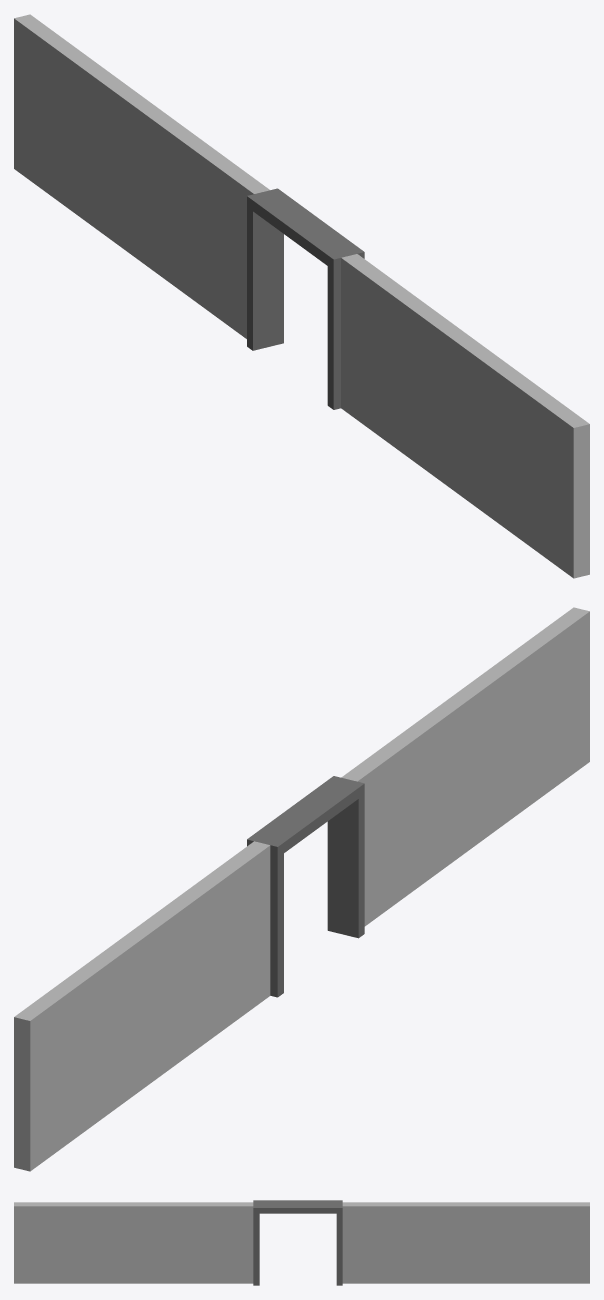
Rendered from TUONGRONG_BEBOI.fbx.
3 renders of one model, top to bottom at view 1: azimuth 30°, elevation 25°; view 2: azimuth 150°, elevation 25°; view 3: azimuth 270°, elevation 25°, orthographic. The views are drawn at different scales.
Visible parts, largest first — view 1: TUONGRONG_BEBOI; view 2: TUONGRONG_BEBOI; view 3: TUONGRONG_BEBOI.
Boxes of the visible parts, x1,y1,x2,y2 form: TUONGRONG_BEBOI: (14, 14, 589, 578); TUONGRONG_BEBOI: (14, 607, 589, 1171); TUONGRONG_BEBOI: (14, 1200, 589, 1285).
Size of the model in its own units: 114 by 532 by 3583.
